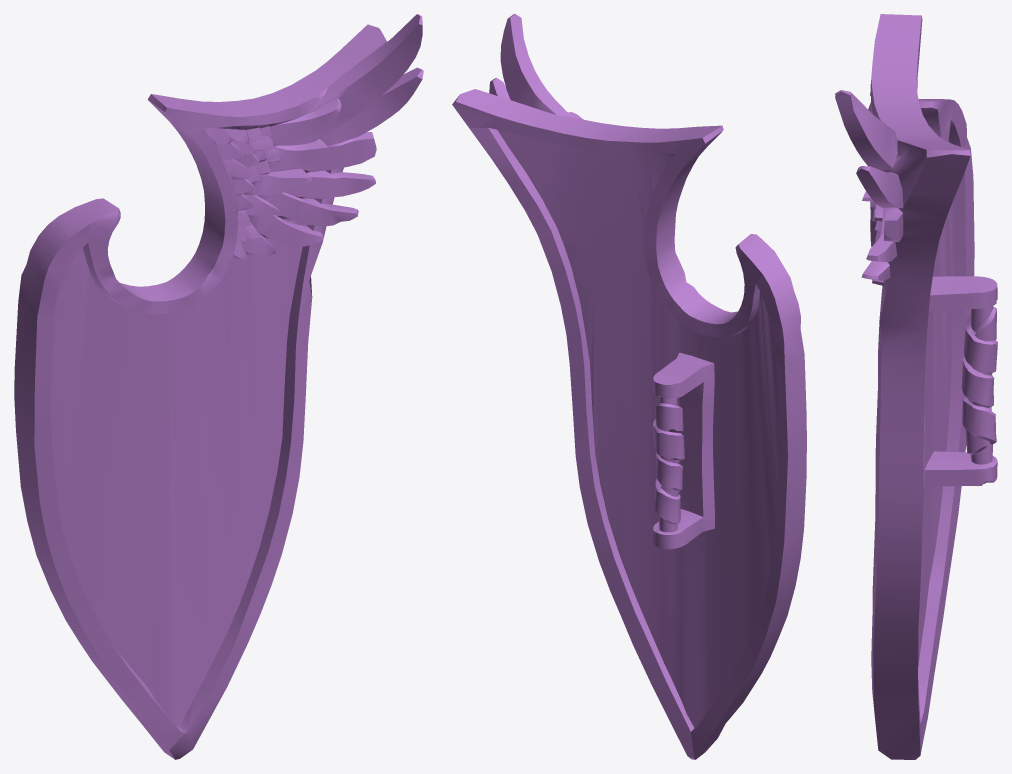
File: SM_Rune_Shield_3.fbx
3 renders of one model, left to right at view 1: azimuth 30°, elevation 25°; view 2: azimuth 150°, elevation 25°; view 3: azimuth 270°, elevation 25°, orthographic. The views are drawn at different scales.
Visible parts, largest first — view 1: SM_Rune_Shield_3; view 2: SM_Rune_Shield_3; view 3: SM_Rune_Shield_3.
Part boxes in pixels (x1,y1,x2,y2): SM_Rune_Shield_3: (14, 14, 423, 759); SM_Rune_Shield_3: (452, 14, 806, 759); SM_Rune_Shield_3: (835, 14, 997, 759).
Size of the model in its own units: 0.5916 by 1.11 by 0.207.
